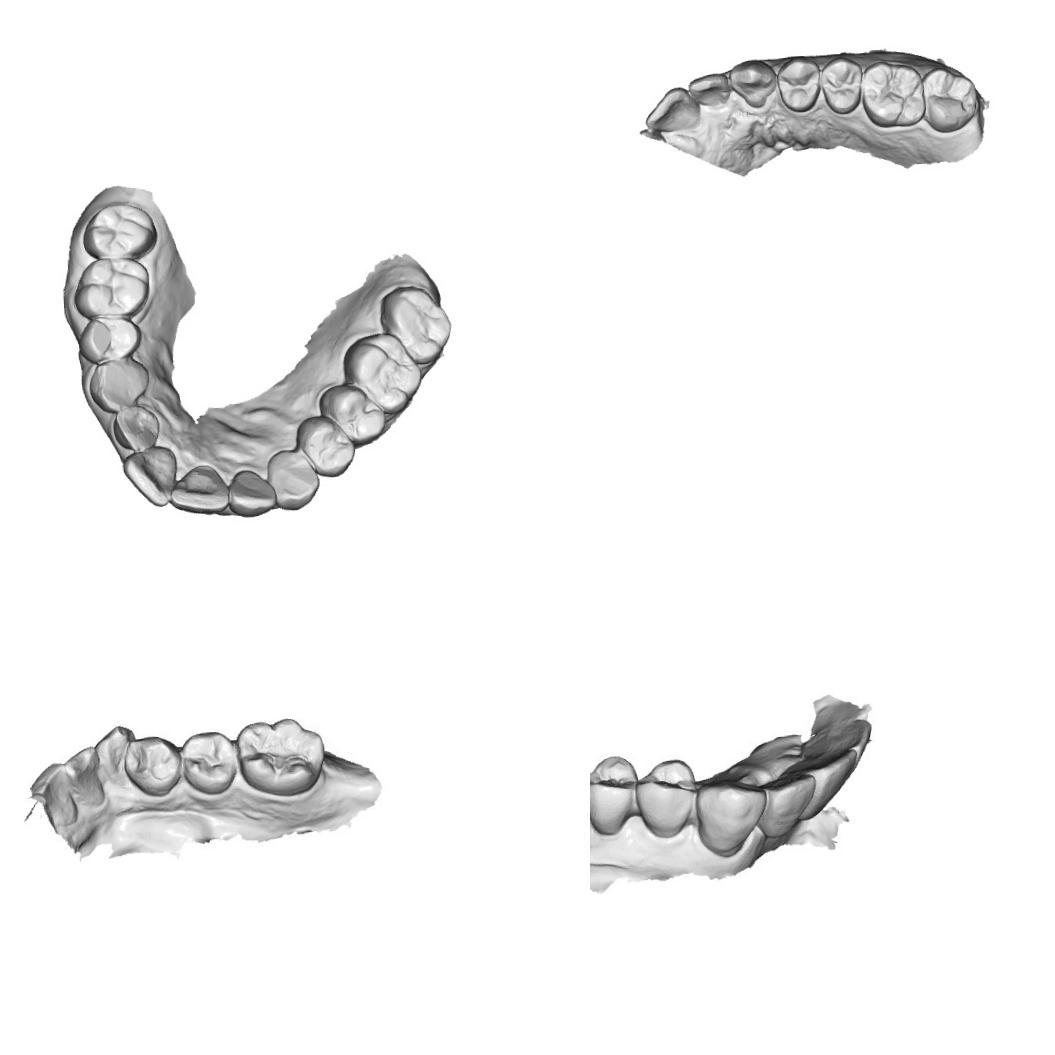canine: (692, 776, 770, 861), (86, 356, 151, 416), (263, 446, 322, 512), (727, 56, 778, 110), (94, 722, 134, 790)
incisor: (119, 442, 179, 510), (28, 755, 80, 831), (766, 774, 819, 844), (166, 462, 232, 518), (806, 753, 858, 818), (641, 82, 701, 134), (59, 747, 107, 810), (107, 402, 163, 454), (225, 466, 278, 518), (684, 70, 730, 110)
molar: (339, 328, 424, 416), (374, 280, 454, 366), (240, 718, 324, 796), (70, 254, 152, 321), (860, 57, 928, 129), (80, 200, 158, 262), (920, 63, 981, 134)
premolar: (628, 750, 696, 844), (314, 380, 387, 450), (293, 410, 358, 480), (590, 748, 641, 837), (74, 310, 144, 366), (182, 724, 238, 793), (122, 738, 180, 796), (819, 54, 865, 116), (774, 54, 821, 114)
